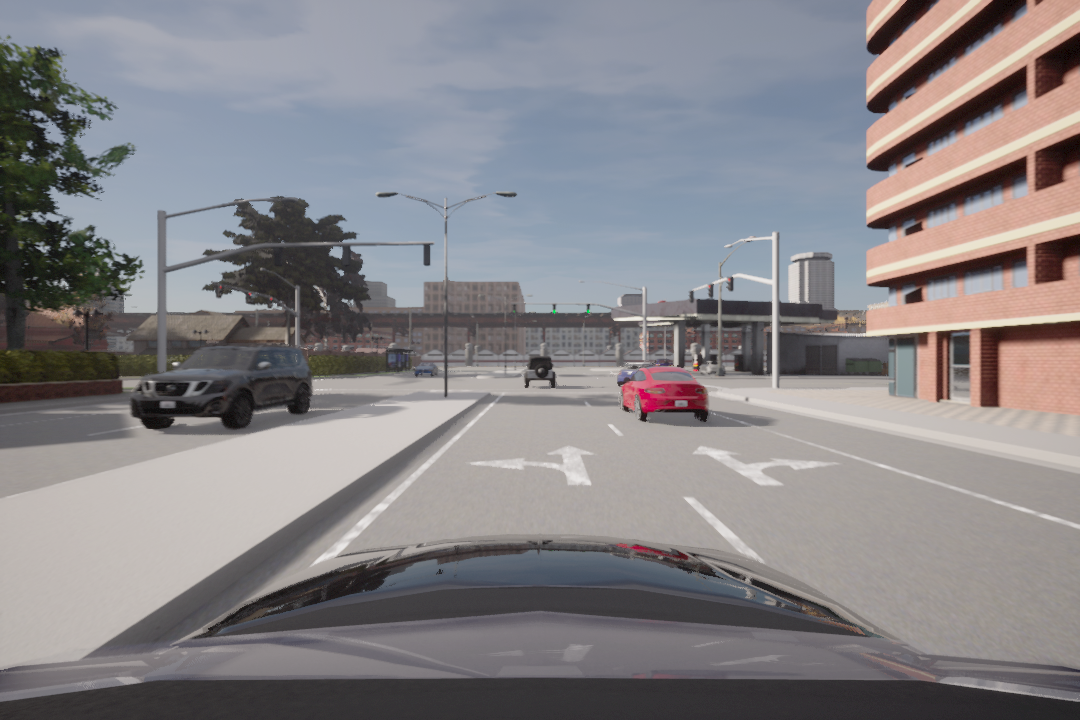RoadSign_forward_left: (467, 435, 599, 487)
RoadSign_forward_right: (689, 440, 841, 490)
